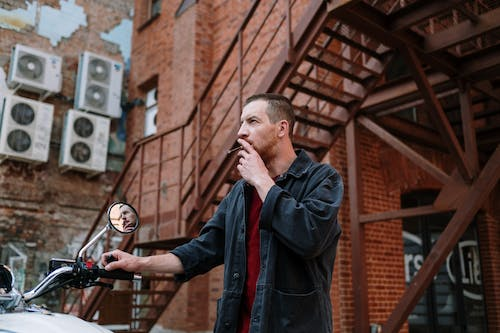cigarette: (227, 145, 244, 155)
